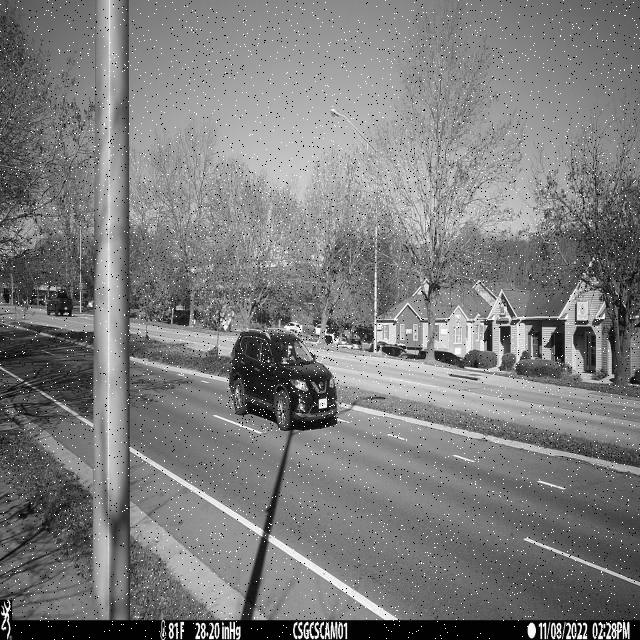SUV: (229, 328, 339, 431)
